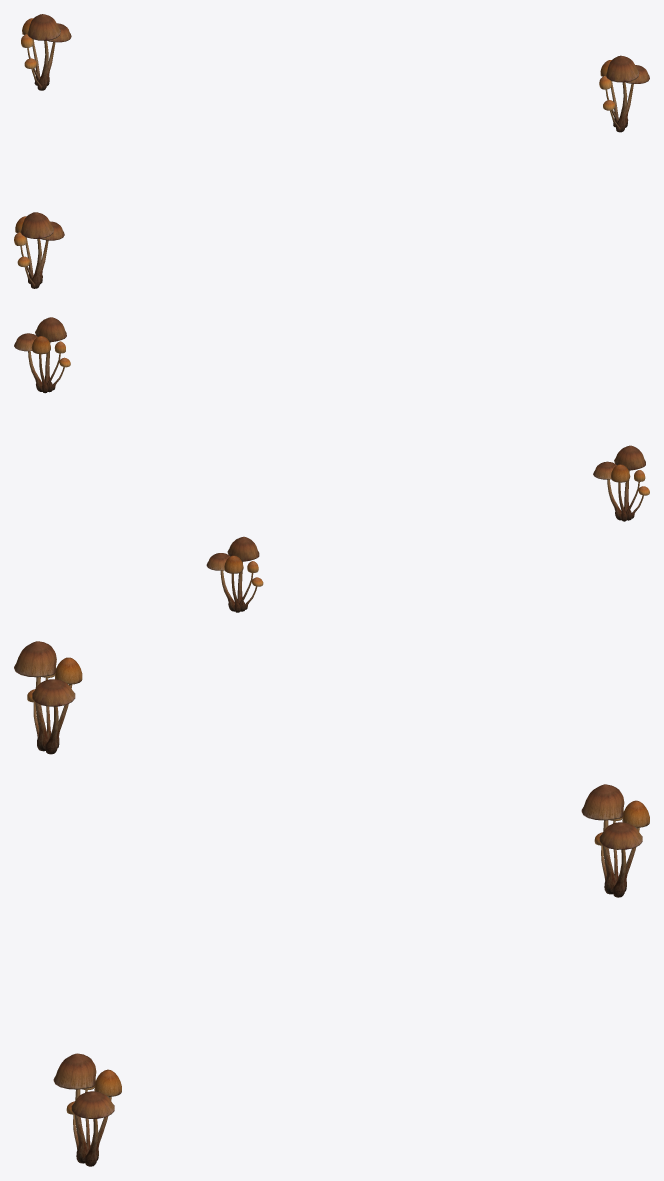
Rendered from Mushrooms.fbx.
3 renders of one model, top to bottom at view 1: azimuth 30°, elevation 25°; view 2: azimuth 150°, elevation 25°; view 3: azimuth 270°, elevation 25°, orthographic. The views are drawn at different scales.
Visible parts, largest first — view 1: mushroom3; view 2: mushroom3; view 3: mushroom3.
Part boxes in pixels (x1,y1,x2,y2): mushroom3: (14,14,649,288); mushroom3: (14,317,649,612); mushroom3: (14,641,649,1166).
Size of the model in its own units: 202 by 22.77 by 121.
1 material, 1 textured.
